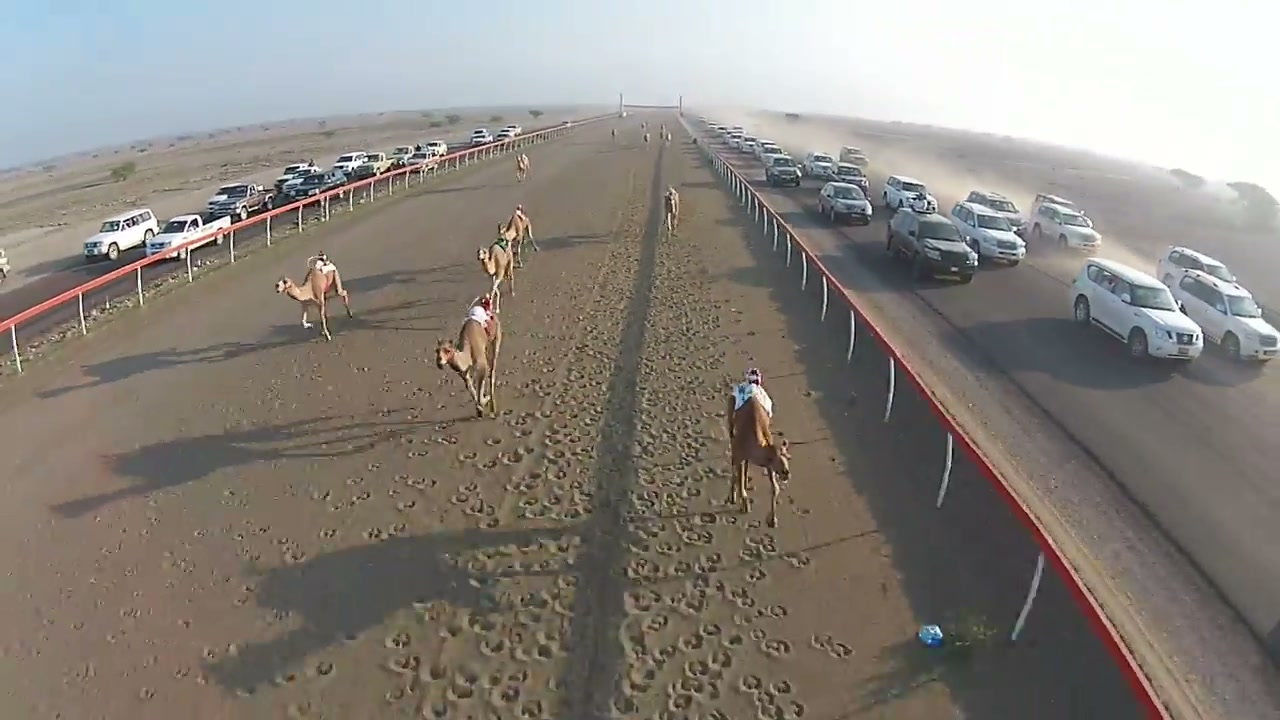animal_foot_print: (62, 168, 879, 719), (24, 238, 638, 718), (330, 238, 802, 717), (382, 307, 624, 718), (614, 241, 807, 718), (419, 302, 625, 717)
